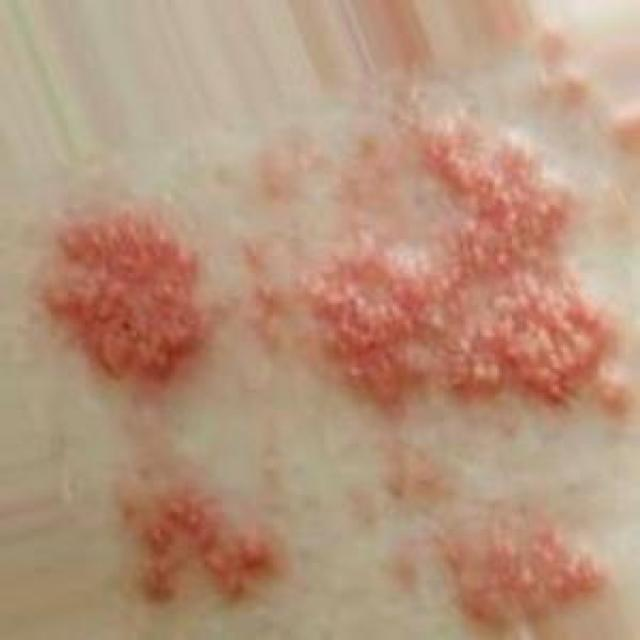Shingles: (293, 92, 626, 417), (47, 204, 211, 384), (117, 489, 282, 607), (432, 517, 610, 624)
